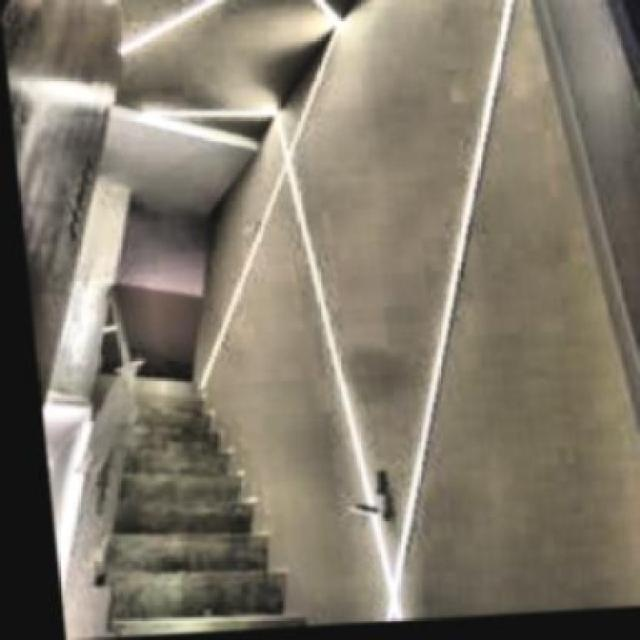stair: (37, 374, 331, 638)
